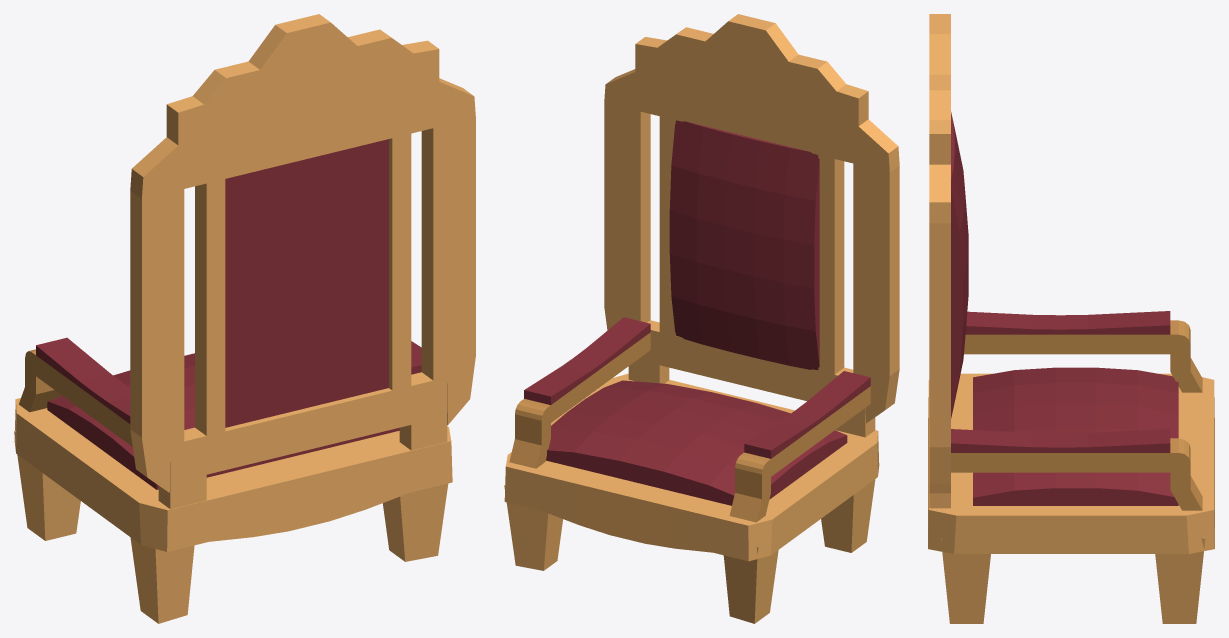
Rendered from Tron.fbx.
The picture shows the model from 3 angles, left to right: view 1: azimuth 30°, elevation 25°; view 2: azimuth 150°, elevation 25°; view 3: azimuth 270°, elevation 25°; orthographic projection. The views are drawn at different scales.
Visible parts, largest first — view 1: Cube.023; view 2: Cube.023; view 3: Cube.023.
Boxes of the visible parts, x1,y1,x2,y2 form: Cube.023: [14, 14, 475, 623]; Cube.023: [504, 14, 899, 623]; Cube.023: [928, 14, 1214, 623].
Size of the model in its own units: 64.2 by 105 by 50.79.
